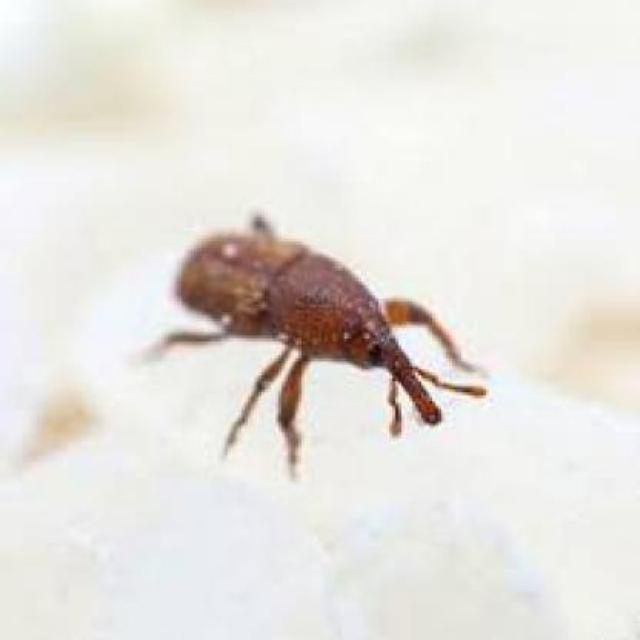rice-bug: (167, 220, 478, 458)
